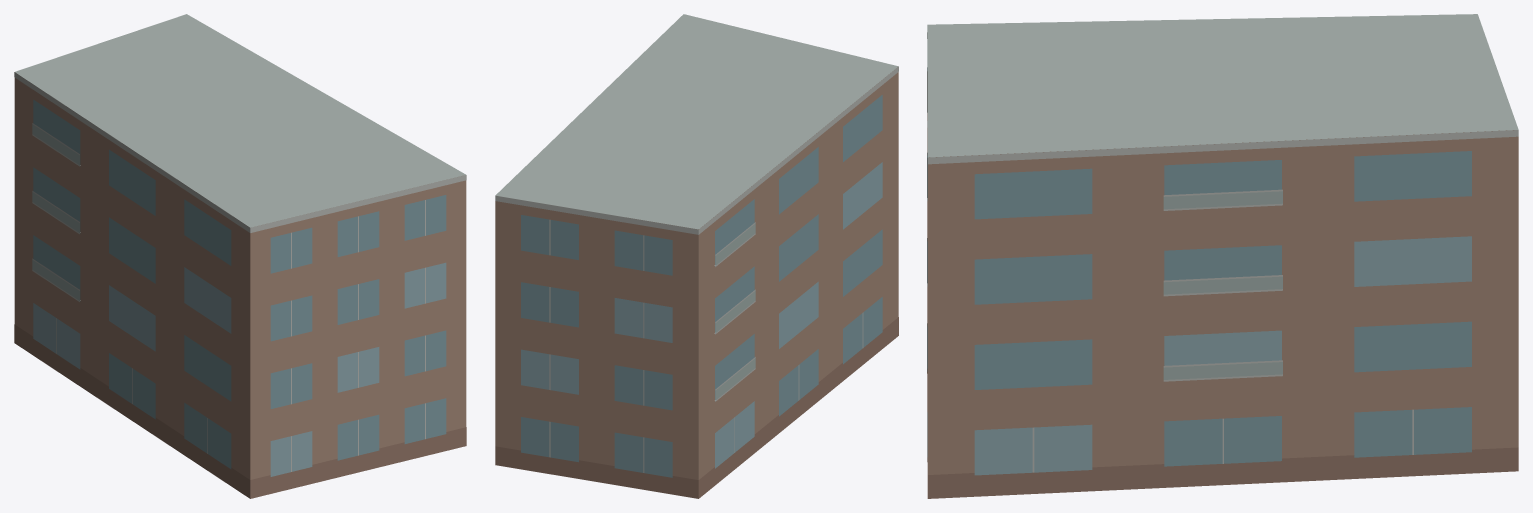
Rendered from survey-upis-32750110.glb.
3 views of the same model, side by side, from view 1: azimuth 30°, elevation 25°; view 2: azimuth 150°, elevation 25°; view 3: azimuth 270°, elevation 25° (orthographic). The views are drawn at different scales.
Visible parts, largest first — view 1: survey-upis-32750110.tmp; view 2: survey-upis-32750110.tmp; view 3: survey-upis-32750110.tmp.
Part boxes in pixels (<box>): survey-upis-32750110.tmp: <box>14,14,466,498</box>; survey-upis-32750110.tmp: <box>495,14,898,498</box>; survey-upis-32750110.tmp: <box>927,14,1518,498</box>.
Bounding box in the file's own units: 10.96 × 12.15 × 19.09.
